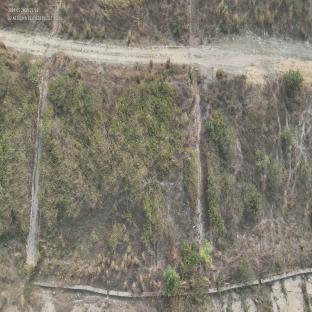slope_drain: (192, 83, 215, 260), (26, 78, 47, 266)
toe_drain: (23, 258, 310, 300)
vegetation: (49, 72, 176, 229), (8, 78, 34, 162), (211, 114, 244, 170), (4, 174, 28, 236), (243, 180, 262, 218), (161, 265, 180, 296), (286, 71, 306, 100), (184, 242, 199, 271)
